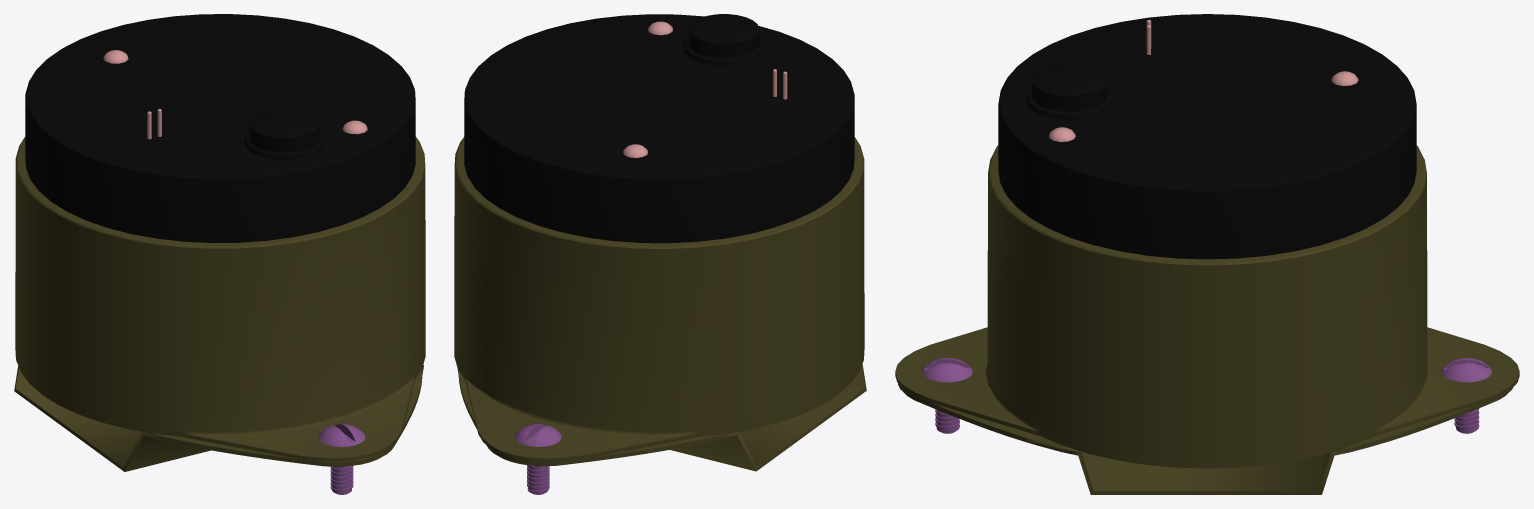
Rendered from rele.fbx.
The picture shows the model from 3 angles, left to right: view 1: azimuth 30°, elevation 25°; view 2: azimuth 150°, elevation 25°; view 3: azimuth 270°, elevation 25°; orthographic projection. The views are drawn at different scales.
Parts seen in each view (by area): view 1: rele_LOD0; view 2: rele_LOD0; view 3: rele_LOD0.
Boxes of the visible parts, x1,y1,x2,y2 form: rele_LOD0: [14, 14, 425, 494]; rele_LOD0: [454, 14, 866, 494]; rele_LOD0: [895, 14, 1519, 494].
Size of what is drawn, in the model's own units: 2.86 by 2.58 by 4.06.
